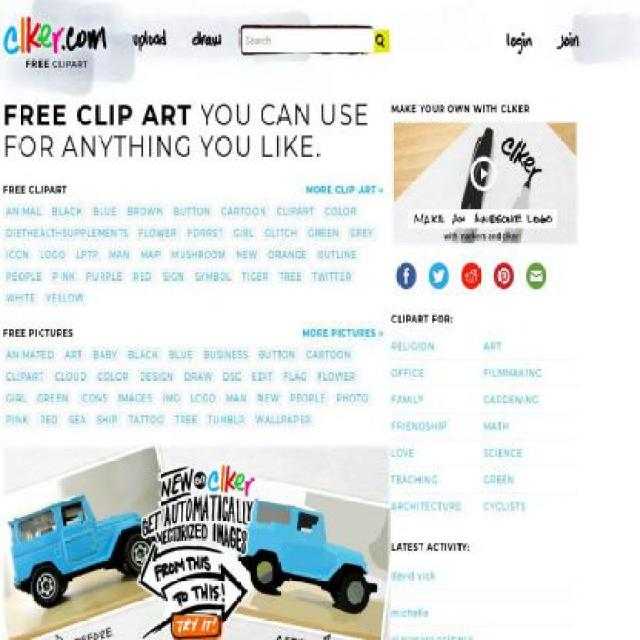button: (0, 9, 112, 75), (391, 333, 484, 361), (391, 360, 484, 388), (391, 387, 484, 415), (391, 413, 484, 441), (391, 440, 484, 468), (391, 467, 484, 495), (391, 493, 484, 521), (484, 333, 576, 361), (484, 360, 576, 388), (484, 387, 576, 415), (484, 413, 576, 441), (484, 440, 576, 468), (484, 467, 576, 495), (484, 493, 576, 521), (2, 224, 132, 241), (252, 410, 316, 428), (168, 245, 229, 262), (218, 202, 270, 220), (2, 346, 58, 362), (199, 346, 252, 362), (302, 346, 355, 362), (313, 245, 361, 262), (170, 202, 215, 220), (273, 202, 318, 220), (205, 410, 249, 428), (134, 224, 180, 241), (264, 245, 310, 262), (124, 202, 167, 220), (125, 410, 168, 428), (43, 289, 88, 306), (3, 202, 45, 220), (310, 268, 356, 284), (314, 368, 360, 384), (184, 224, 227, 241), (286, 389, 329, 406), (3, 368, 48, 384), (191, 268, 235, 284), (255, 346, 299, 362), (322, 202, 361, 220), (115, 389, 156, 406), (3, 268, 46, 284), (83, 268, 126, 284), (262, 224, 302, 241), (136, 368, 178, 384), (49, 202, 86, 220), (305, 224, 343, 241), (34, 389, 72, 406), (334, 389, 372, 406), (3, 289, 40, 306), (75, 389, 111, 406), (125, 346, 163, 362), (52, 368, 90, 384), (94, 368, 132, 384), (88, 202, 121, 220), (345, 224, 378, 241), (181, 368, 216, 384), (37, 245, 69, 262), (238, 268, 272, 284), (187, 389, 219, 406), (89, 346, 122, 362), (3, 245, 34, 262), (3, 410, 32, 428), (93, 410, 122, 428), (232, 245, 262, 262), (172, 410, 200, 428), (49, 268, 80, 284), (166, 346, 197, 362), (280, 368, 311, 384), (72, 245, 101, 262), (254, 389, 283, 406), (158, 268, 188, 284), (276, 268, 306, 284), (248, 368, 278, 384), (230, 224, 258, 241), (106, 245, 134, 262), (137, 245, 165, 262), (3, 389, 31, 406), (223, 389, 251, 406), (36, 410, 62, 428), (65, 410, 90, 428), (159, 389, 184, 406), (130, 268, 156, 284), (220, 368, 245, 384), (61, 346, 85, 362)
field: (242, 29, 375, 53), (377, 29, 392, 51)
